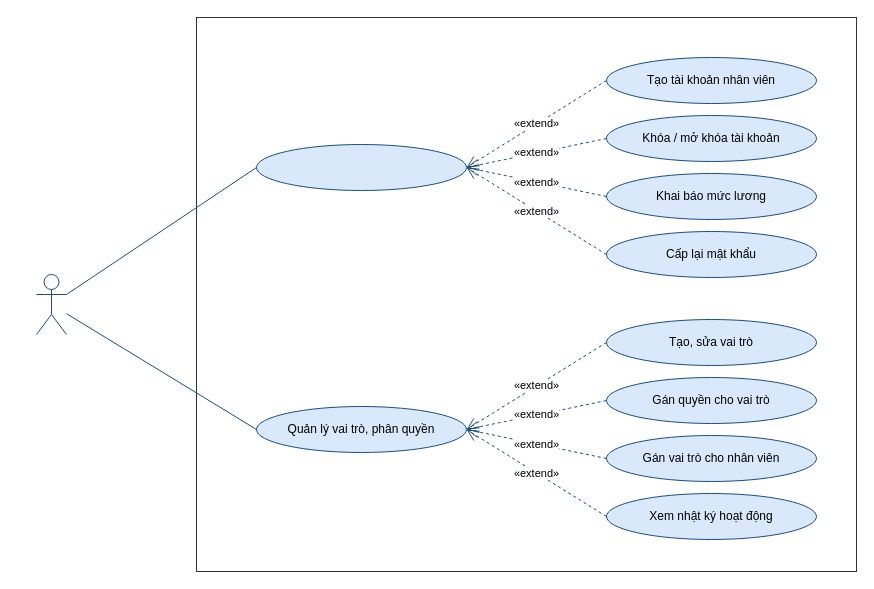
Image size: 874x589. Some labels were removed from this diagram. The centre of each missing label's shape, as x and y in pixels:
Quản lý người dùng: (x=361, y=167)
Quản trị viên: (x=51, y=304)
